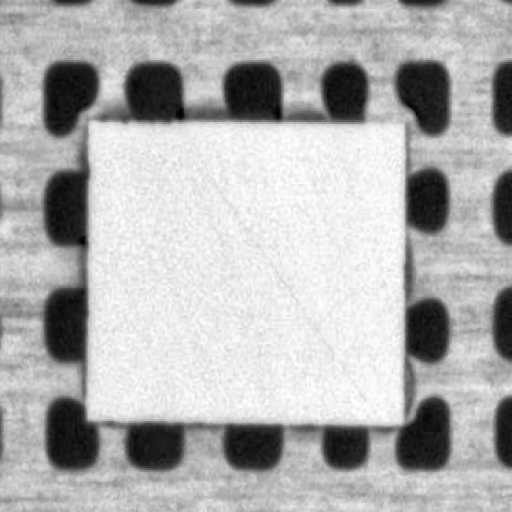DIE_CRACK: (275, 130, 483, 300)
